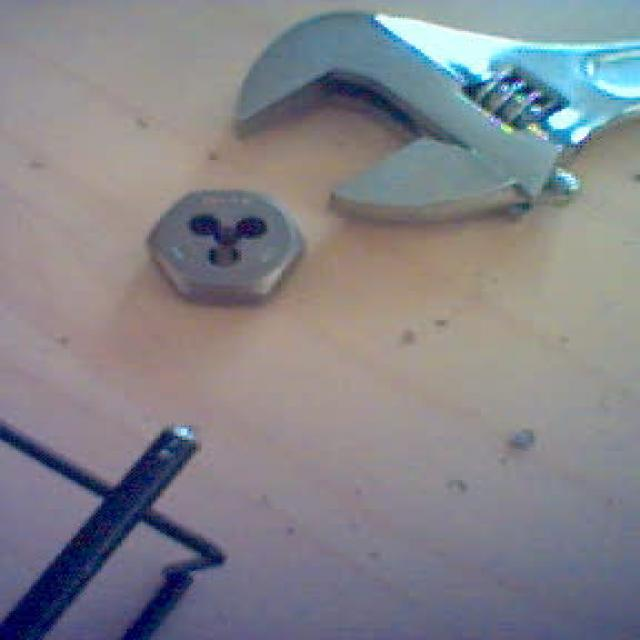wrench: (220, 0, 640, 235)
